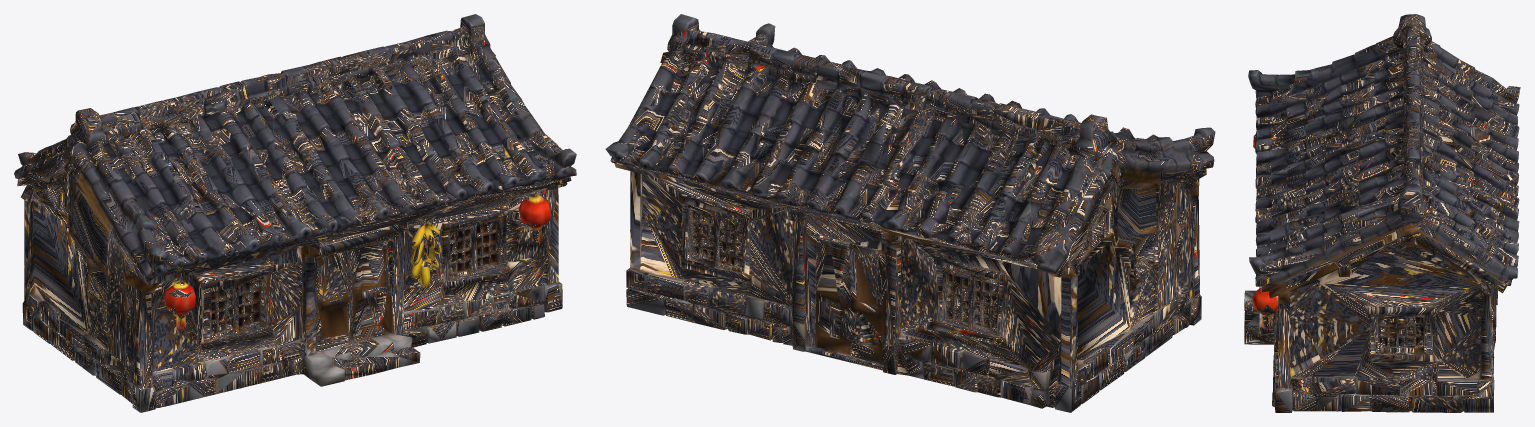
The model's file is bq_farmhouse.lod.glb.
3 views of the same model, side by side, from view 1: azimuth 30°, elevation 25°; view 2: azimuth 150°, elevation 25°; view 3: azimuth 270°, elevation 25° (orthographic). The views are drawn at different scales.
Bounding box in the file's own units: 1.92 × 1.03 × 1.15.
1 material, 1 textured.
